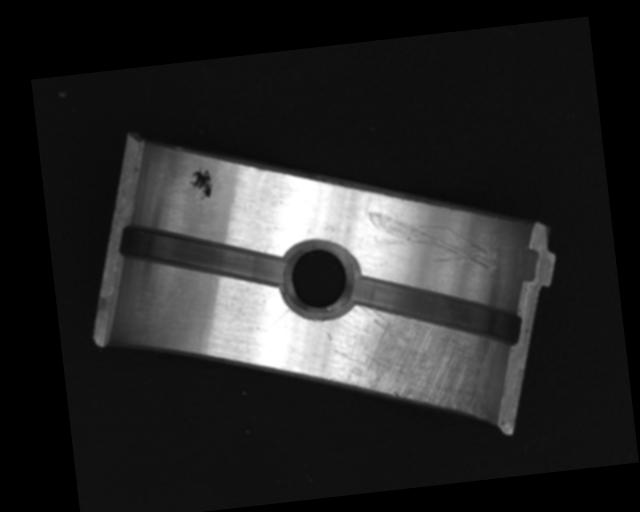blot: (185, 165, 216, 202)
gap: (347, 257, 524, 364), (117, 205, 288, 301)
hole: (280, 238, 355, 316)
nick: (365, 198, 495, 284)
scratch: (327, 286, 501, 436)
